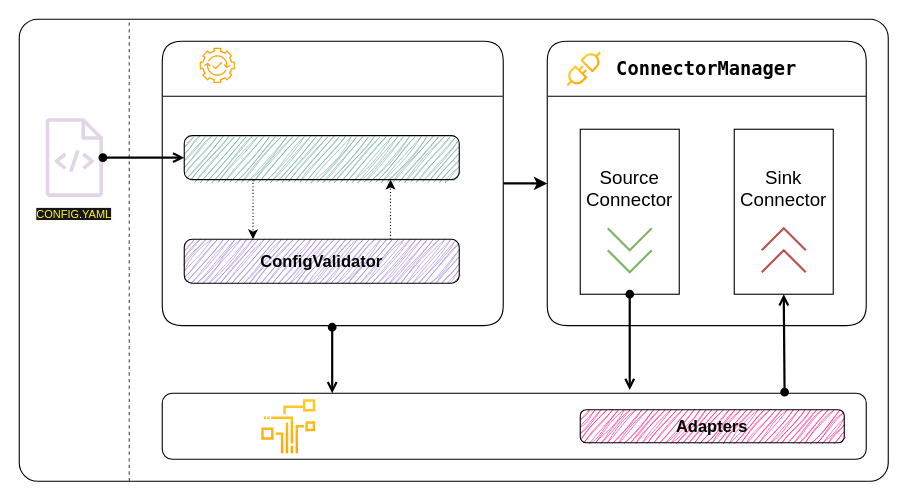
Some shapes in this 908 by 502 pixel diagram are drawn without their labels. Here are the shapes that lost their labels. From the top down, the box of each, then its label:
(183, 135, 459, 180): ConfigLoader
(161, 40, 503, 326): ConfigManager
(161, 392, 866, 459): DataGenerator
